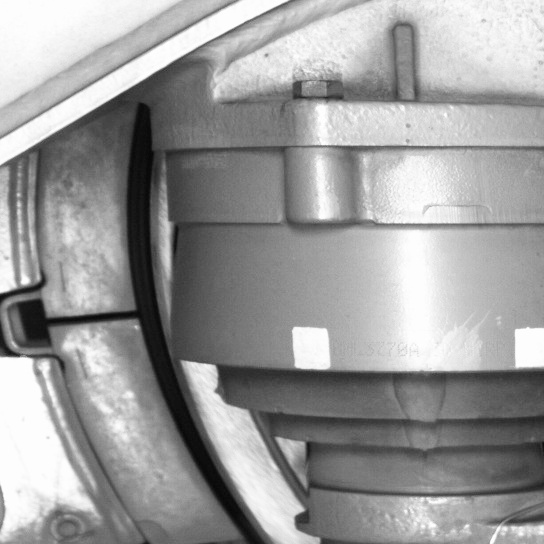KnifeSwitch: (65, 150, 277, 542)
